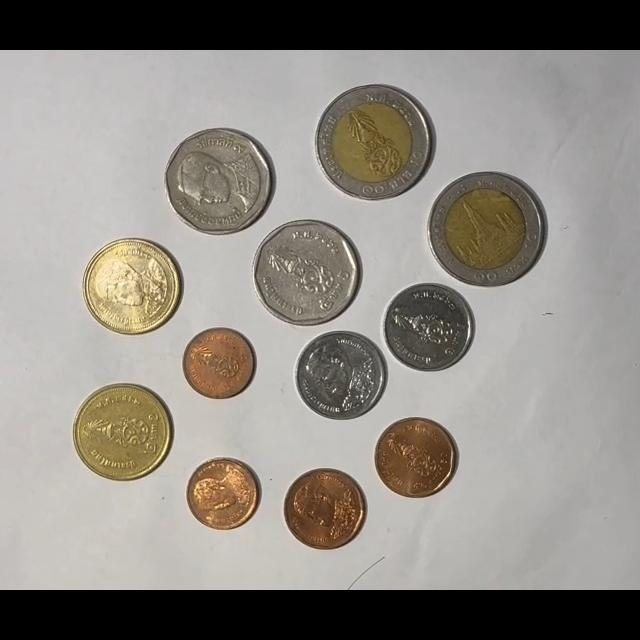1-baht: (382, 282, 474, 373), (294, 330, 386, 421)
10-baht: (315, 84, 434, 202), (428, 171, 546, 287)
2-baht: (82, 238, 181, 337), (73, 383, 173, 481)
25-satang: (186, 457, 262, 532), (182, 327, 255, 399)
5-baht: (164, 128, 275, 236), (253, 219, 362, 327)
50-satang: (283, 468, 366, 551), (374, 417, 458, 499)
